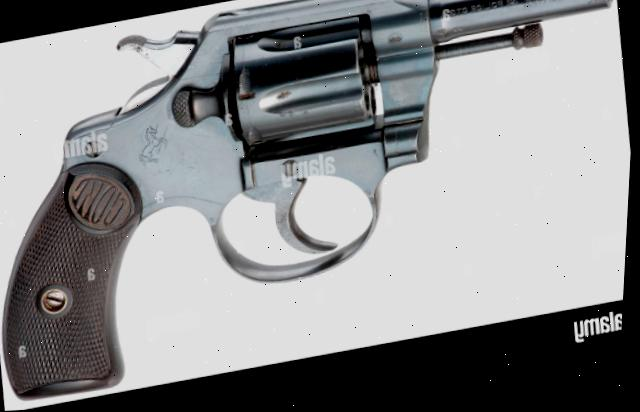pistol: (0, 0, 640, 403)
